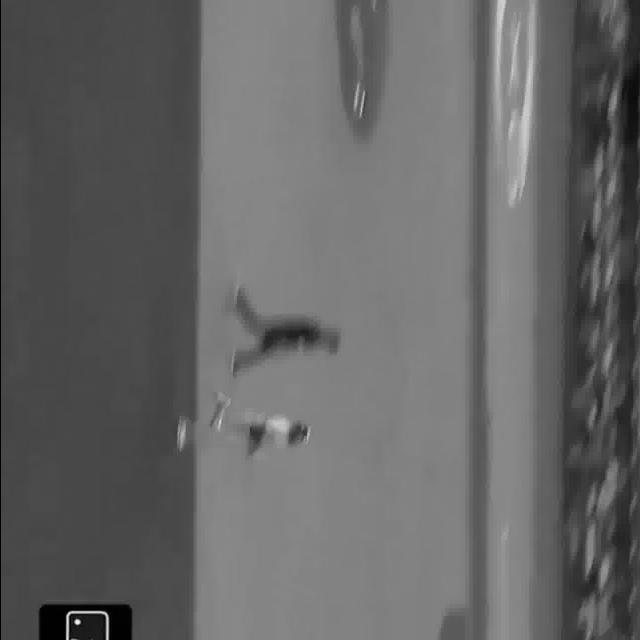shoe: (175, 421, 188, 454), (208, 394, 234, 409)
